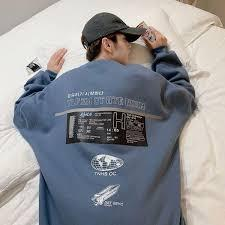sweater: (14, 46, 198, 225)
